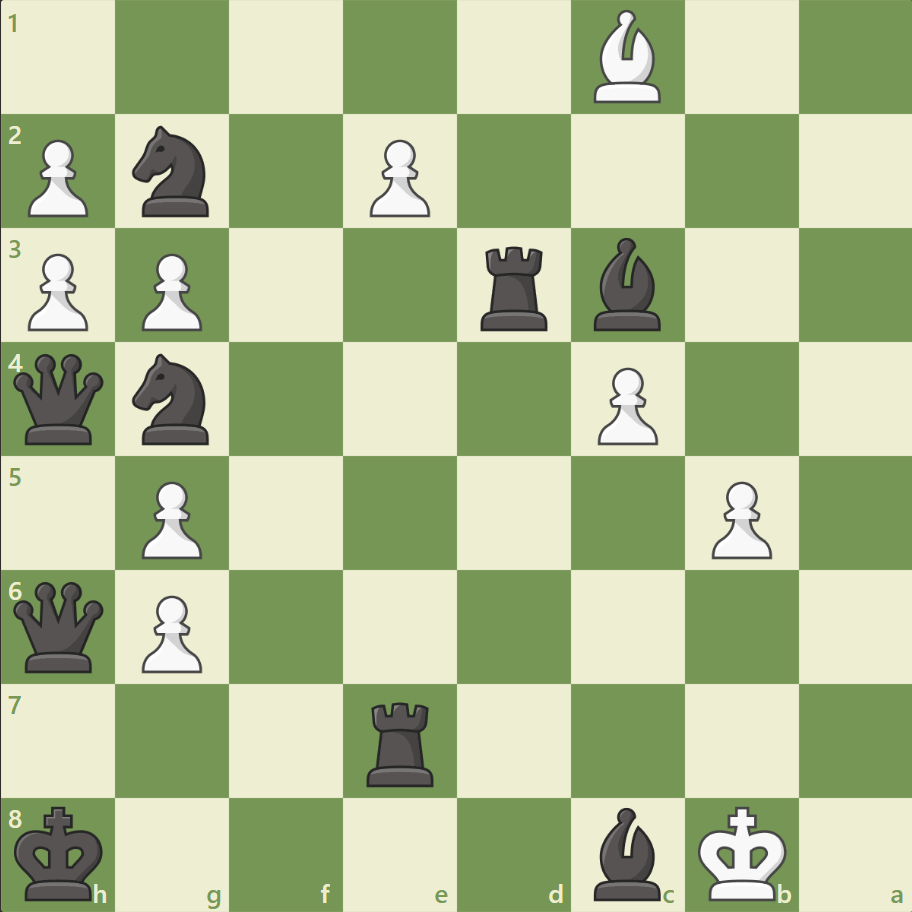B: (585, 6, 669, 109)
K: (692, 798, 792, 906)
P: (133, 586, 208, 677), (701, 473, 776, 564), (133, 473, 208, 564), (133, 246, 208, 337), (20, 246, 95, 337), (20, 132, 95, 223), (588, 359, 662, 450), (361, 132, 435, 223)
b: (585, 801, 669, 904), (585, 233, 669, 336)
k: (11, 798, 111, 906)
n: (124, 348, 222, 450), (124, 121, 222, 223)
q: (10, 576, 109, 676), (10, 349, 109, 449)
r: (473, 239, 556, 336), (360, 693, 442, 790)
